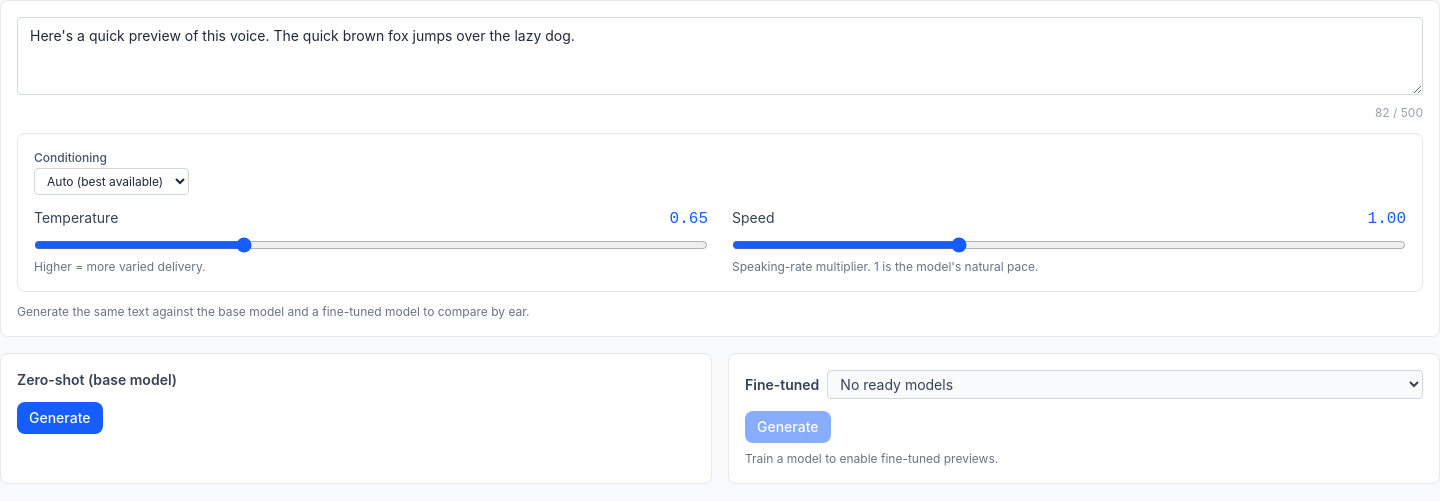
it: PreviewPanel temperature › buttons disable when text is cleared
Check: the button "Generate" below "Zero-shot (base model)" is enabled, box [17,402,102,434]
Note: Clear the text
Clear the text box with placeholder "Text to synthesise…" at (720, 56), box [17,17,1423,95]
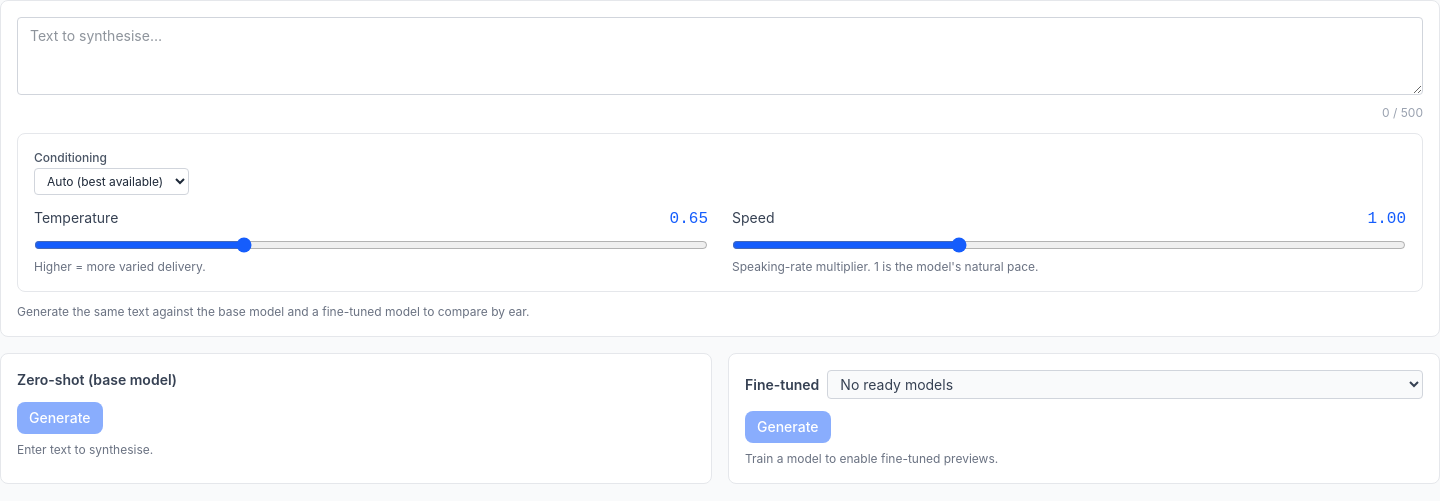
Check: the 2nd button "Generate" is disabled, box [745,411,830,443]
Check: the button "Generate" below "Zero-shot (base model)" is disabled, box [17,402,102,434]
